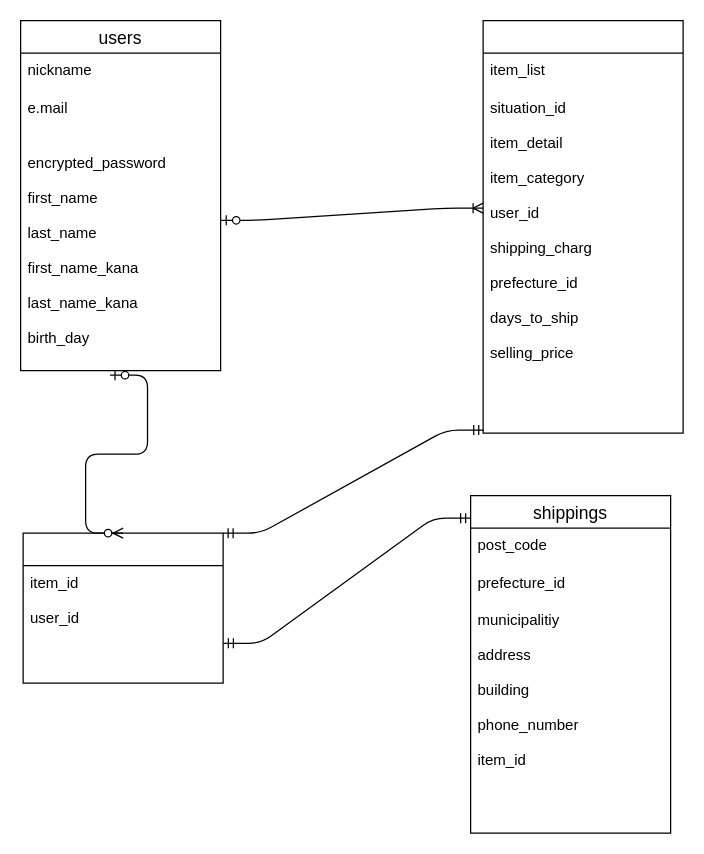
The diagram is 704 pixels wide and 854 high, and some of its shapes have lost their labels. The shapes that lost their labels are listed below. From the top down, each one's box as (x1, y1, x2, y2) in pixels, then its label:
(482, 19, 683, 433): items
(22, 532, 223, 683): purchase_records
